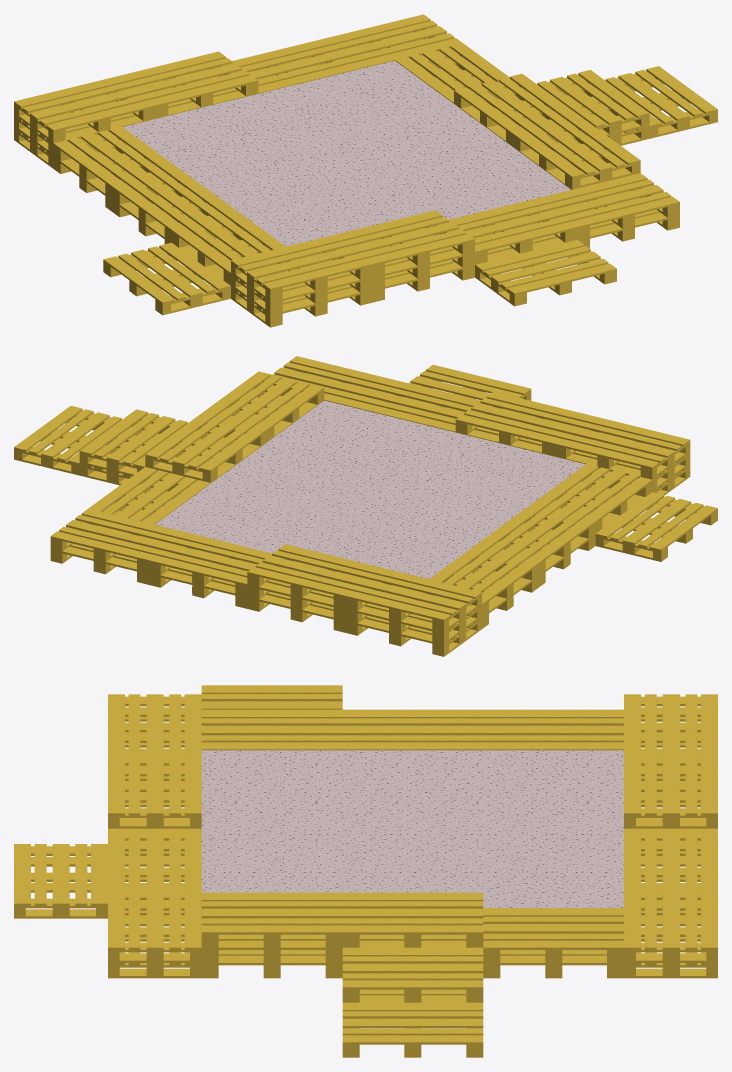
The picture shows the model from 3 angles, top to bottom: view 1: azimuth 30°, elevation 25°; view 2: azimuth 150°, elevation 25°; view 3: azimuth 270°, elevation 25°; orthographic projection. The views are drawn at different scales.
Parts seen in each view (by area): view 1: wooden pallet 1#1 (×32), object 37; view 2: wooden pallet 1#1 (×31), object 37; view 3: wooden pallet 1#1 (×25), object 37.
Boxes of the visible parts, left/top/right/bottom form: wooden pallet 1#1 (×32): left=14, top=14, right=717, bottom=327; object 37: left=123, top=60, right=570, bottom=246; wooden pallet 1#1 (×31): left=14, top=356, right=717, bottom=656; object 37: left=155, top=400, right=585, bottom=578; wooden pallet 1#1 (×25): left=14, top=685, right=717, bottom=1057; object 37: left=201, top=750, right=623, bottom=907.
Bounding box in the file's own units: 7.2 × 0.432 × 6.
Materials: 2 (2 with a texture image).
